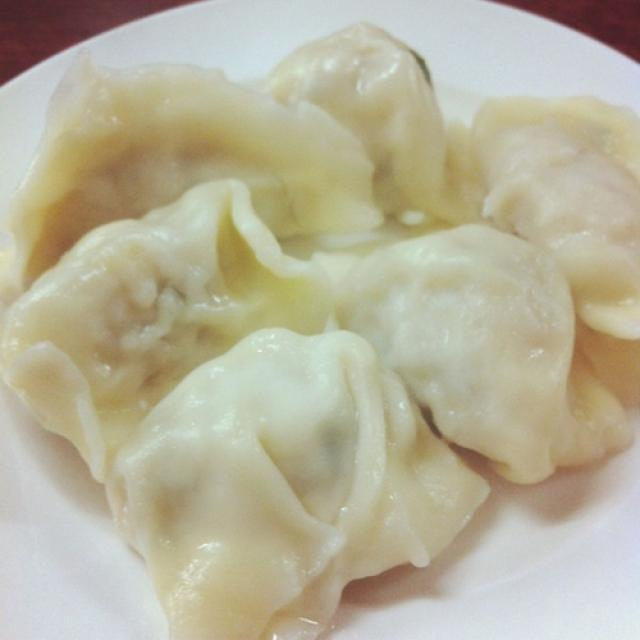带馅早点: (13, 32, 613, 621)
